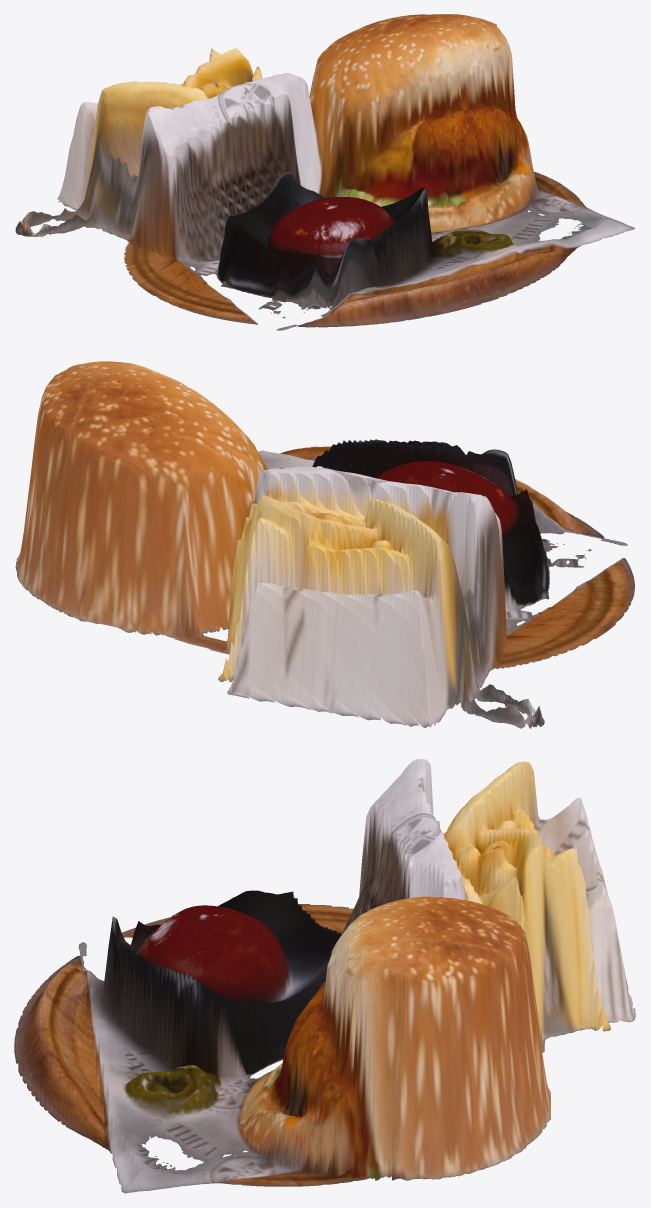
The model's file is tg-74-chicken-burger-3d.glb.
3 views of the same model, one above another, from view 1: azimuth 30°, elevation 25°; view 2: azimuth 150°, elevation 25°; view 3: azimuth 270°, elevation 25° (orthographic). The views are drawn at different scales.
Size of the model in its own units: 0.2933 by 0.09 by 0.2445.
Materials: 1 (1 with a texture image).
